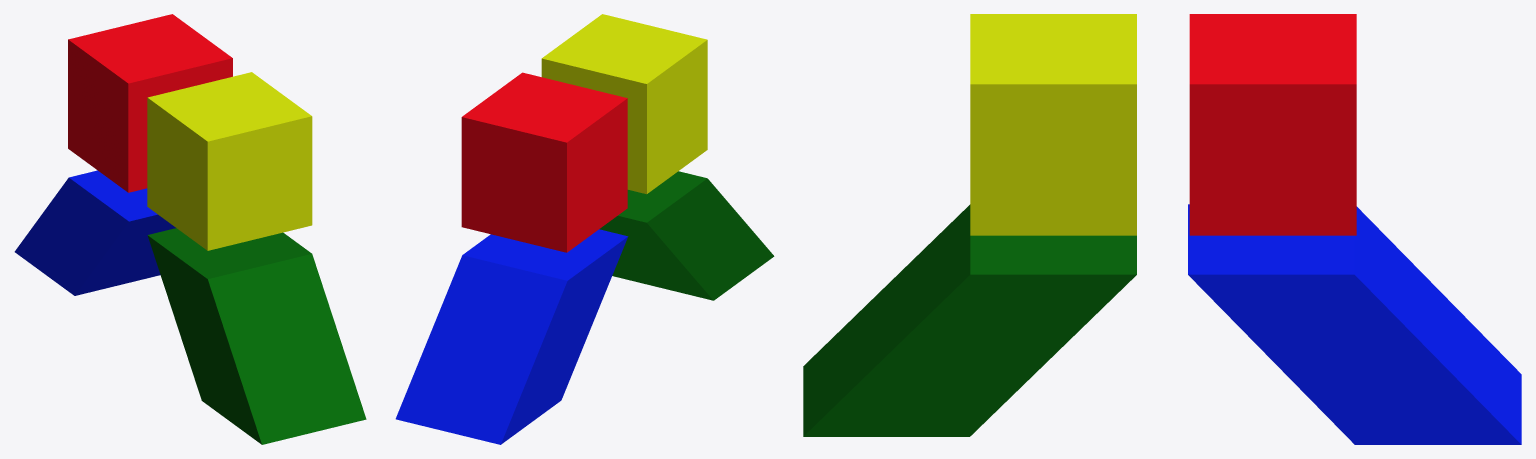
File: ItaipuStaticMesh.FBX
The picture shows the model from 3 angles, left to right: view 1: azimuth 30°, elevation 25°; view 2: azimuth 150°, elevation 25°; view 3: azimuth 270°, elevation 25°; orthographic projection. The views are drawn at different scales.
Parts seen in each view (by area): view 1: ItaipuStaticMesh; view 2: ItaipuStaticMesh; view 3: ItaipuStaticMesh.
Boxes of the visible parts, x1,y1,x2,y2 form: ItaipuStaticMesh: (14,14,366,444); ItaipuStaticMesh: (395,14,774,444); ItaipuStaticMesh: (803,14,1521,444).
Size of the model in its own units: 52.34 by 202 by 111.
